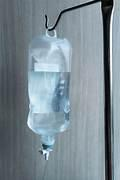Iv_Bottle: (27, 31, 71, 158)
